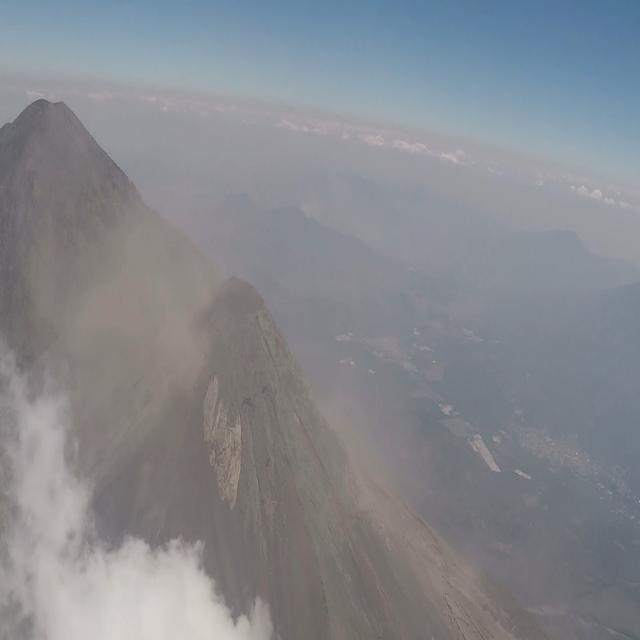Summit: (114, 262, 358, 506)
